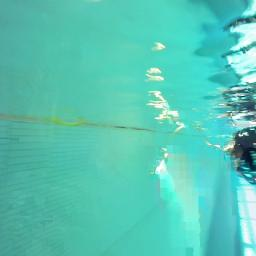Side: (227, 125, 256, 185)
